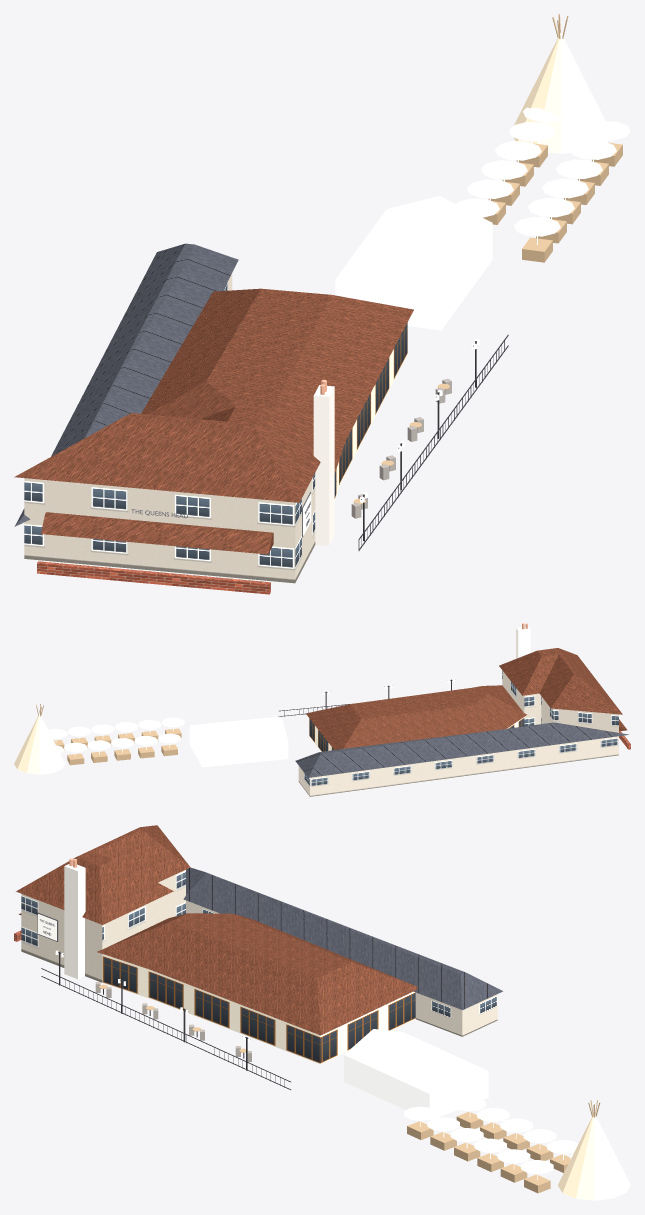
The model's file is queens_head.glb.
The picture shows the model from 3 angles, top to bottom: view 1: azimuth 30°, elevation 25°; view 2: azimuth 150°, elevation 25°; view 3: azimuth 270°, elevation 25°; orthographic projection. The views are drawn at different scales.
Parts seen in each view (by area): view 1: MainRoof, Main, ParasolPole, WingRoof, Tipi, Marquee, Table, Chimney, BrickPlinth, Restaurant, RailTop; view 2: MainRoof, WingRoof, Wing, ParasolPole, Main, Marquee, Tipi, Table, Restaurant, Chimney; view 3: MainRoof, WingRoof, ParasolPole, Restaurant, Main, Table, Tipi, Marquee, Wing, Chimney, RailTop.
Boxes of the visible parts, x1,y1,x2,y2 form: MainRoof: (14,288,413,554); Main: (24,473,315,583); ParasolPole: (336,107,630,292); WingRoof: (14,243,238,526); Tipi: (513,32,606,153); Marquee: (335,223,492,330); Table: (353,14,622,504); Chimney: (313,385,334,545); BrickPlinth: (37,561,270,594); Restaurant: (334,323,407,499); RailTop: (358,334,508,550); MainRoof: (306,648,627,749); WingRoof: (295,722,628,777); Wing: (298,736,618,796); ParasolPole: (48,717,287,756); Main: (502,670,618,732); Marquee: (189,726,288,767); Tipi: (14,713,65,774); Table: (36,704,181,765); Restaurant: (309,717,524,751); Chimney: (516,626,530,658); MainRoof: (16,825,417,1035); WingRoof: (183,867,502,1010); ParasolPole: (344,1029,578,1180); Restaurant: (102,954,415,1064); Main: (21,870,185,982); Table: (99,984,600,1193); Tipi: (557,1114,630,1200); Marquee: (344,1055,488,1120); Wing: (186,900,497,1036); Chimney: (64,864,85,979); RailTop: (41,951,290,1089).
Size of the model in its own units: 65.59 by 11.1 by 53.82.
24 materials, 6 textured.
